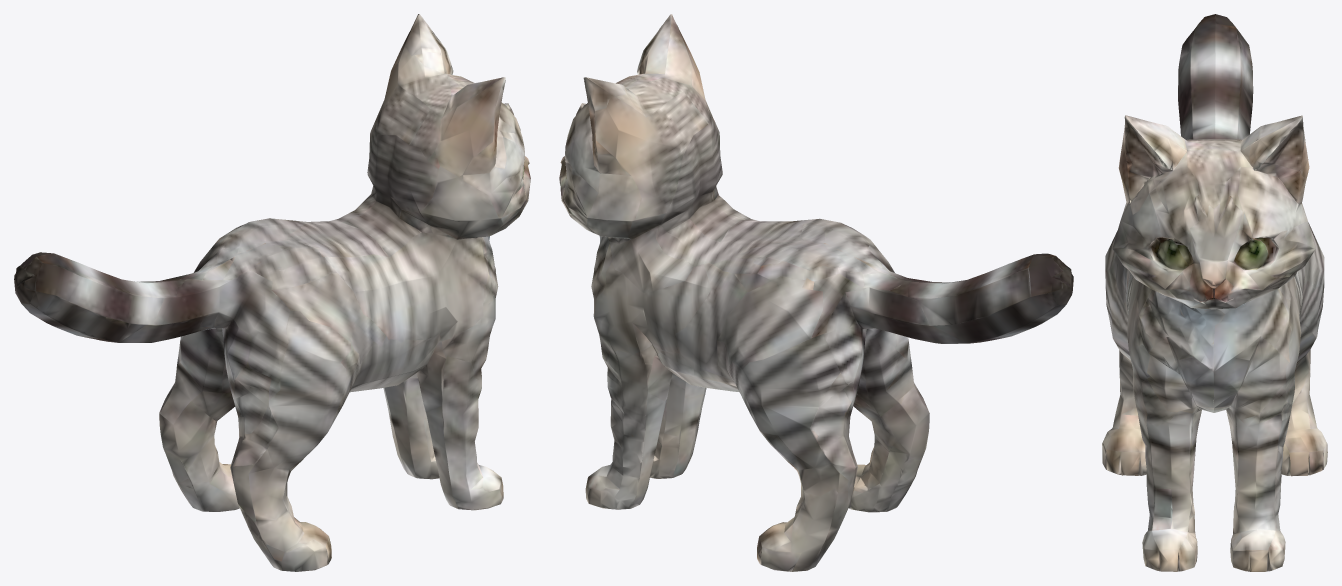
Rendered from SILKSTRIPE-lo.glb.
3 views of the same model, side by side, from view 1: azimuth 30°, elevation 25°; view 2: azimuth 150°, elevation 25°; view 3: azimuth 270°, elevation 25° (orthographic). The views are drawn at different scales.
Visible parts, largest first — view 1: fit; view 2: fit; view 3: fit.
Part boxes in pixels (bbox=[...]): fit: bbox=[14, 14, 530, 571]; fit: bbox=[559, 14, 1073, 571]; fit: bbox=[1102, 14, 1327, 571].
Bounding box in the file's own units: 1.22 × 0.9999 × 0.455.
1 material, 1 textured.
